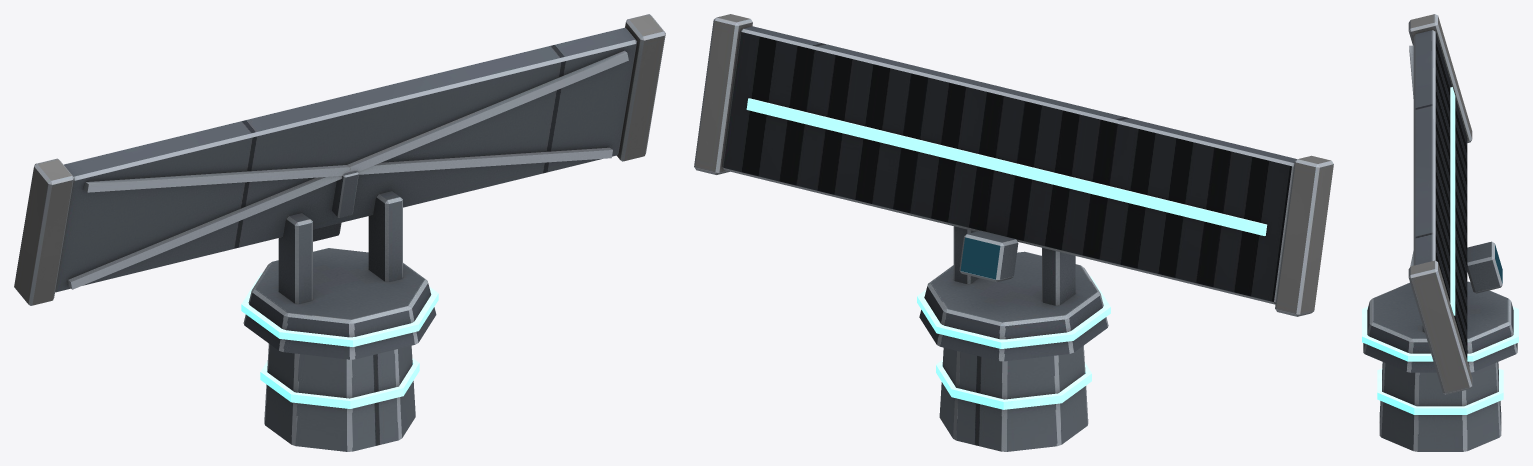
3 views of the same model, side by side, from view 1: azimuth 30°, elevation 25°; view 2: azimuth 150°, elevation 25°; view 3: azimuth 270°, elevation 25° (orthographic). The views are drawn at different scales.
Parts seen in each view (by area): view 1: head, collar; view 2: head, collar; view 3: head, collar.
Boxes of the visible parts, x1,y1,x2,y2 form: head: [14, 14, 665, 359]; collar: [260, 343, 419, 451]; head: [694, 14, 1333, 361]; collar: [936, 345, 1091, 451]; head: [1362, 14, 1518, 394]; collar: [1377, 362, 1503, 451].
Size of the model in its own units: 4.8 by 2.48 by 1.24.
Materials: 1 (1 with a texture image).
